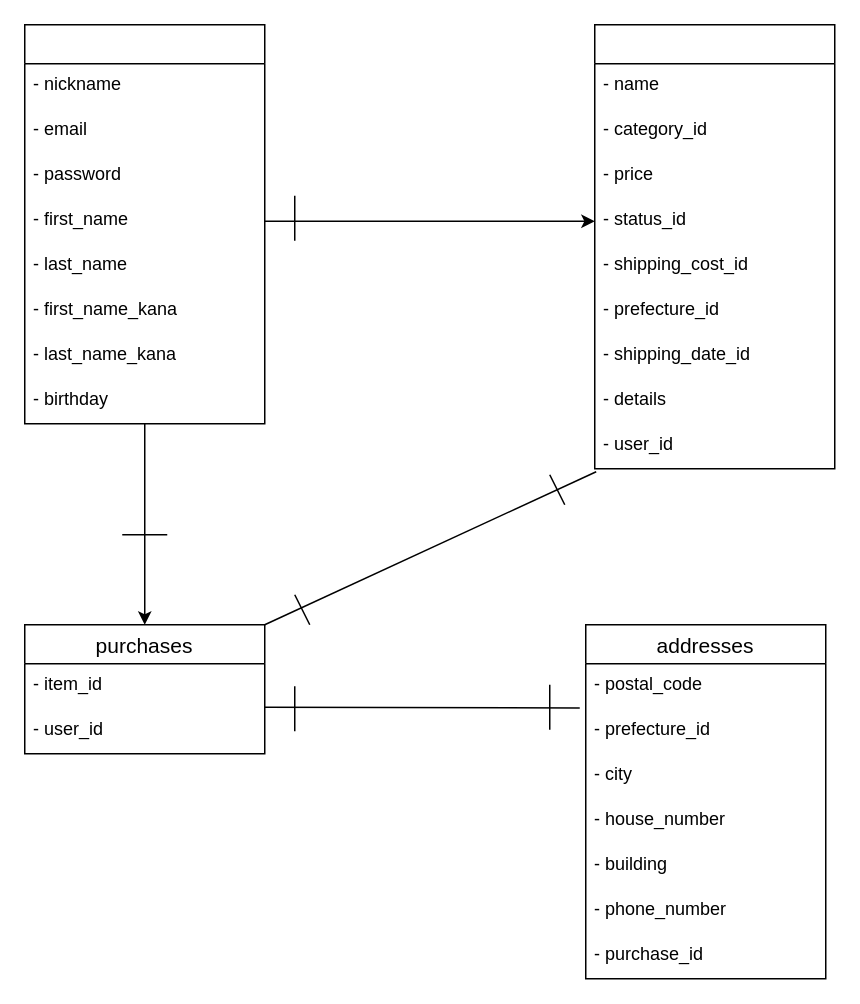
Image size: 860x1004. Some labels were removed from this diagram. Here are the shapes that lost their labels. From the top down, the box of each, then its label:
(23, 23, 265, 424): users
(593, 23, 835, 469): items
